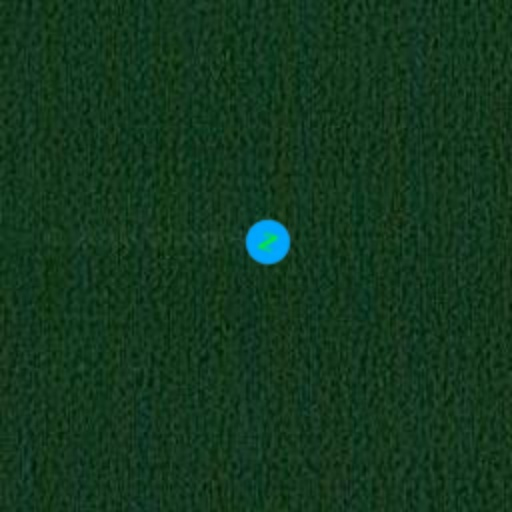circle: (238, 212, 298, 272)
